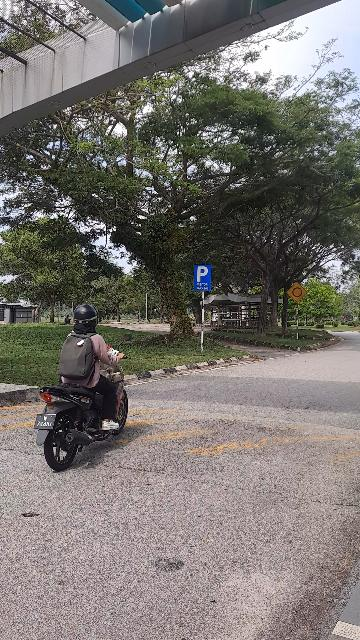License_Plate: (35, 411, 61, 436)
motorcycle: (38, 300, 136, 476)
